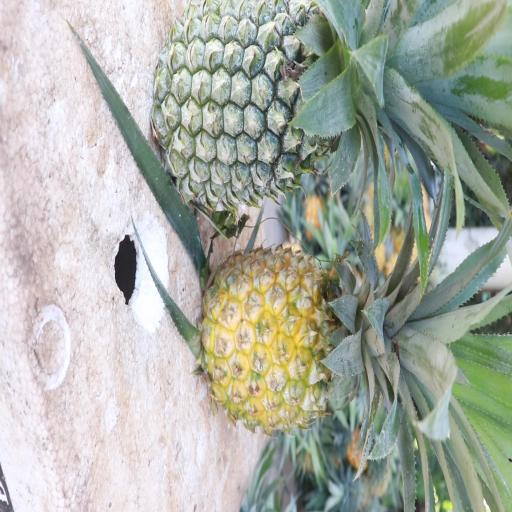Pineapple - v8 v1: (208, 227, 494, 474)
